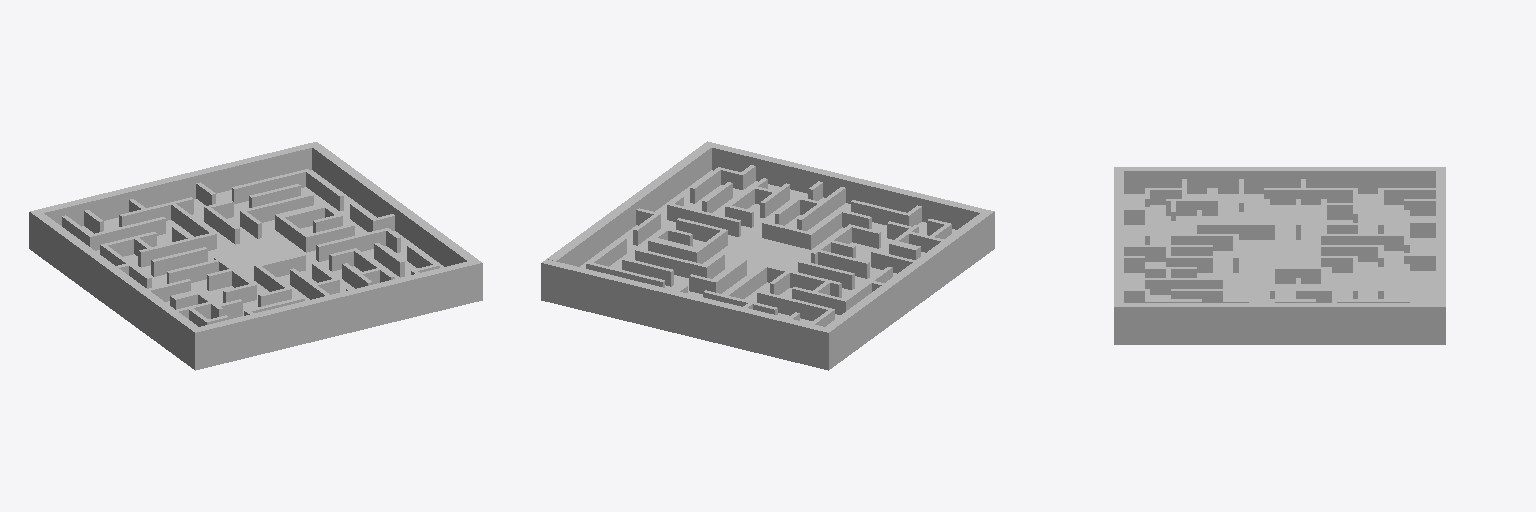
The model's file is LabiryntDowna.obj.
3 renders of one model, left to right at view 1: azimuth 30°, elevation 25°; view 2: azimuth 150°, elevation 25°; view 3: azimuth 270°, elevation 25°, orthographic.
Visible parts, largest first — view 1: Cube; view 2: Cube; view 3: Cube.
Part boxes in pixels (bbox=[...]): Cube: bbox=[29, 142, 482, 370]; Cube: bbox=[541, 141, 994, 370]; Cube: bbox=[1114, 167, 1445, 344].
Bounding box in the file's own units: 39.8 × 4.99 × 39.8.